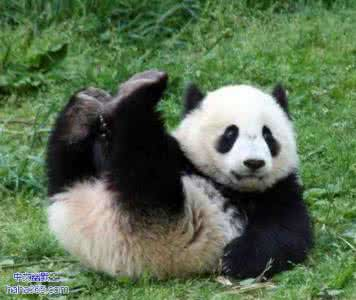panda: (39, 65, 313, 286)
